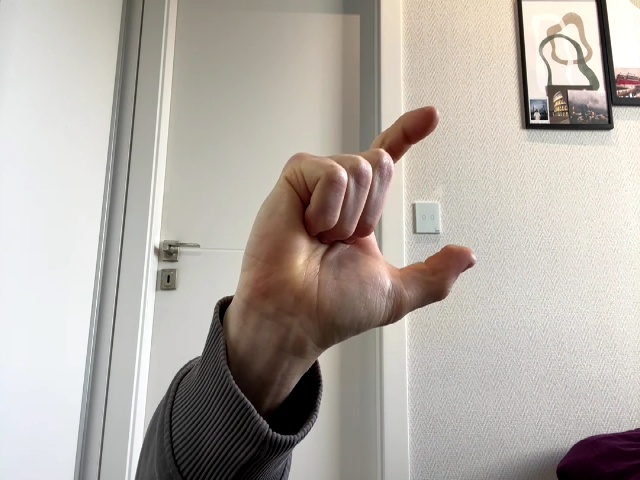C: (238, 106, 477, 341)
